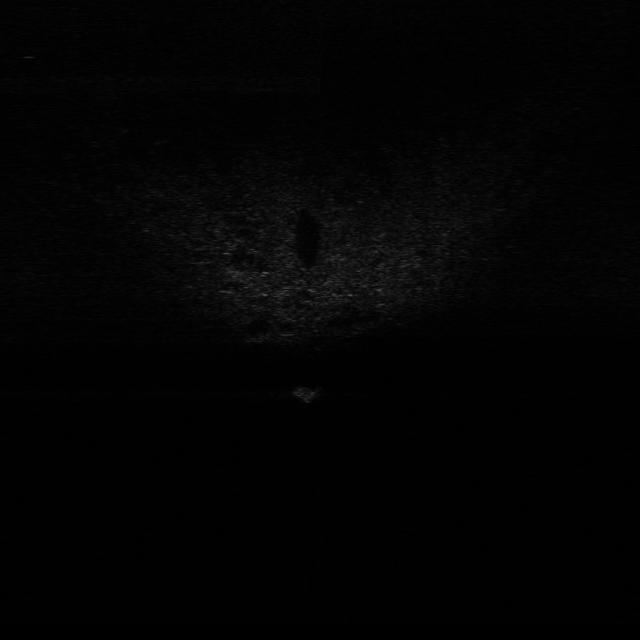cube: (294, 384, 322, 405)
